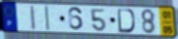5: (90, 8, 108, 32)
6: (68, 6, 85, 32)
8: (141, 8, 158, 35)
D: (117, 8, 137, 34)
I: (43, 5, 52, 32), (29, 5, 37, 31)
